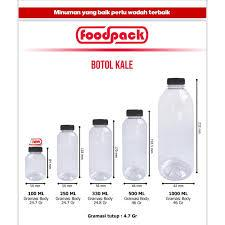BIODEGRADABLE: (90, 113, 116, 189)
